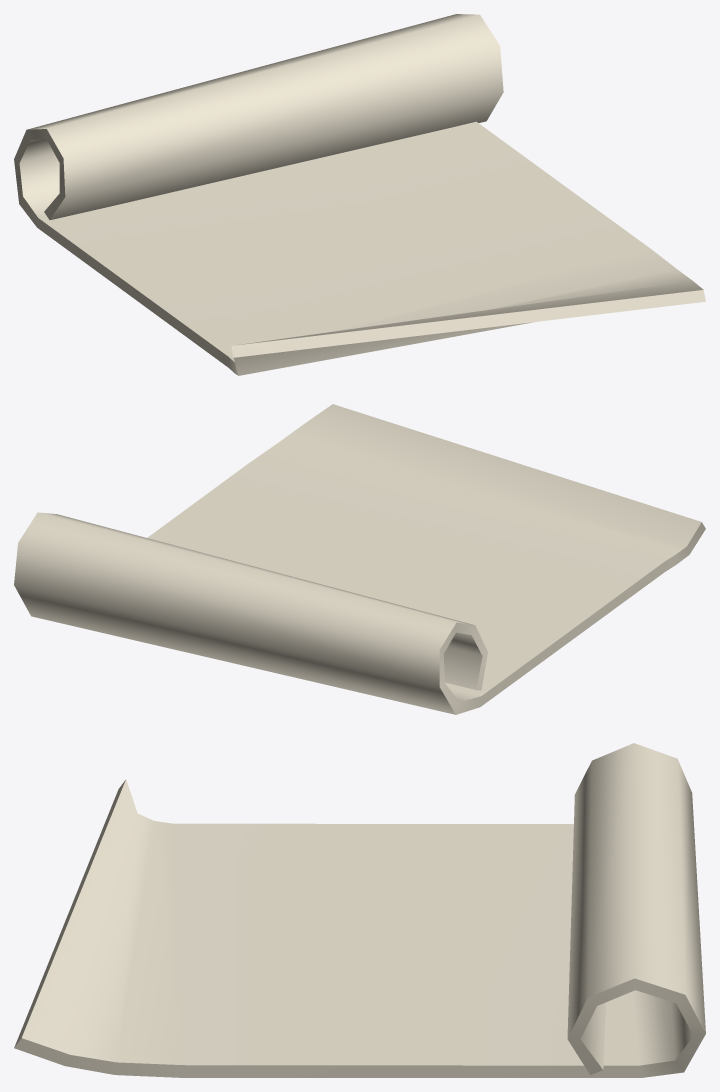
The model's file is Parchment_B.fbx.
3 renders of one model, top to bottom at view 1: azimuth 30°, elevation 25°; view 2: azimuth 150°, elevation 25°; view 3: azimuth 270°, elevation 25°, orthographic. The views are drawn at different scales.
Parts seen in each view (by area): view 1: Parchment_B; view 2: Parchment_B; view 3: Parchment_B.
Boxes of the visible parts, <box> form: Parchment_B: <box>14,14,705,375</box>; Parchment_B: <box>14,404,705,714</box>; Parchment_B: <box>14,743,705,1077</box>.
Bounding box in the file's own units: 43.96 × 8.72 × 48.48.
